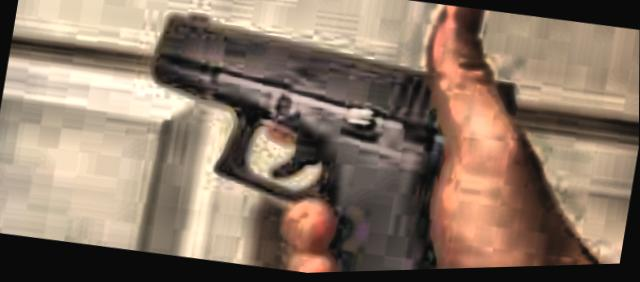pistol: (117, 0, 534, 279)
